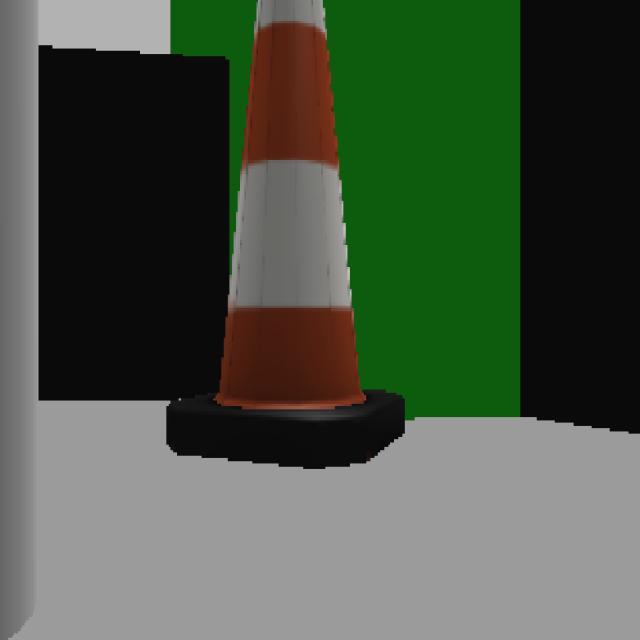cone: (166, 0, 403, 473)
